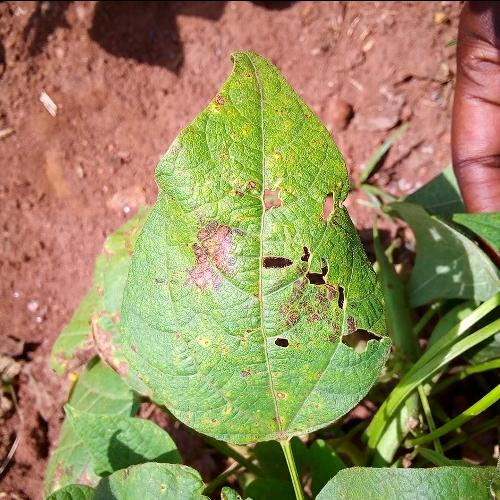hawar: (80, 204, 223, 388)
mozaik: (256, 172, 393, 373)
